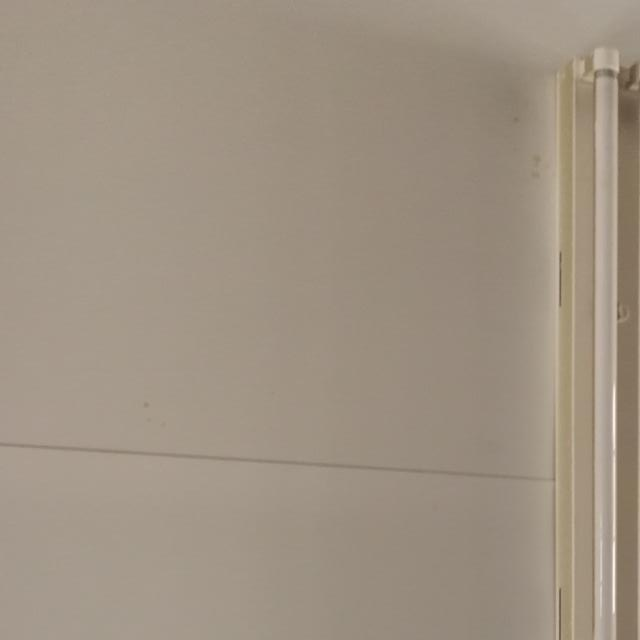fluorescent tube: (505, 35, 640, 640)
